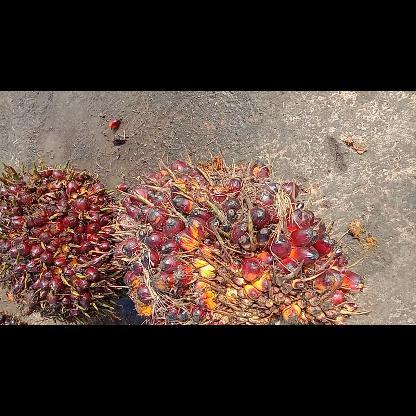Kurang masak: (0, 162, 123, 325)
TBS masak: (106, 150, 367, 324)
